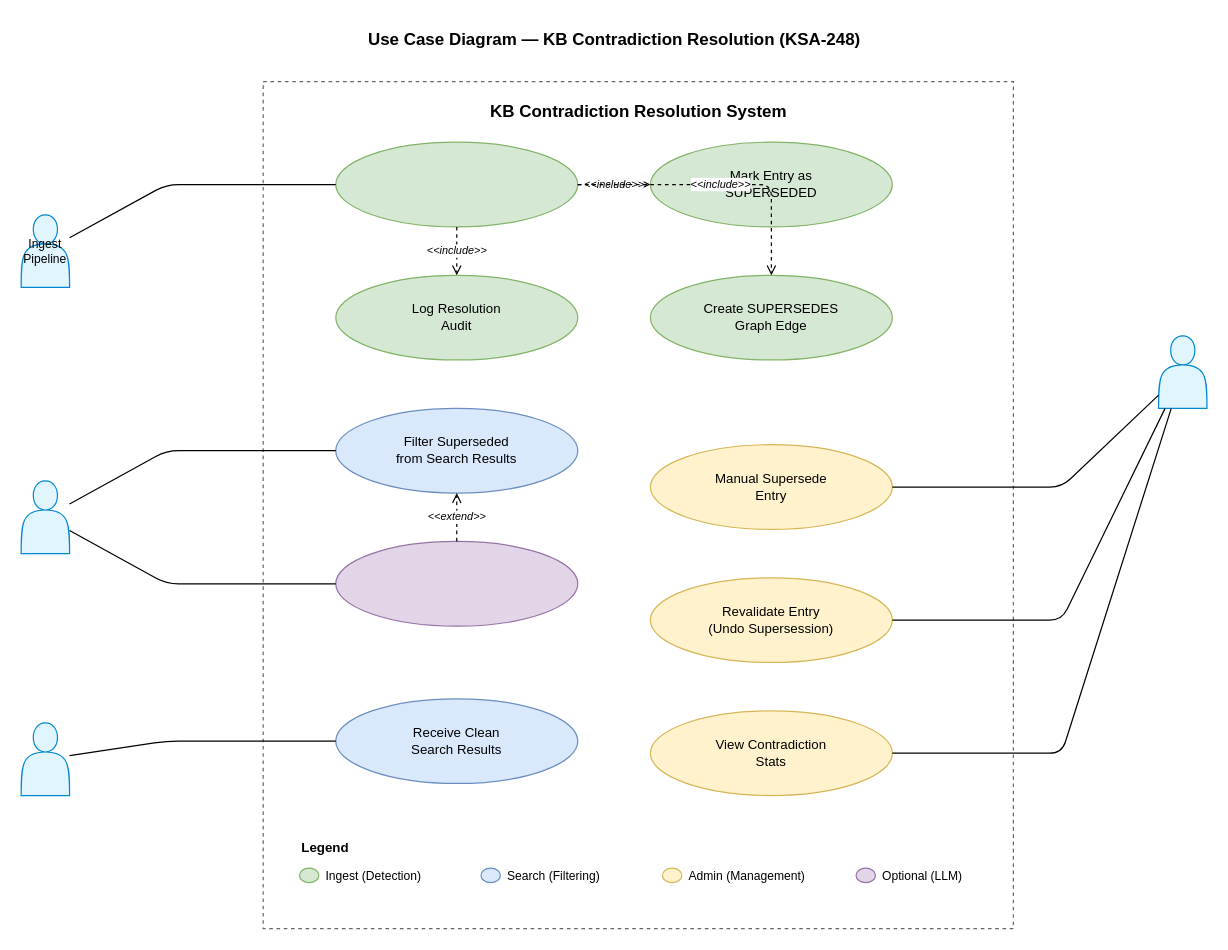
Image size: 1228x950. Some labels were removed from this diagram. Each missing label, with the centre of its shape:
"AI Agent" goes at point (45, 759).
"Detect Contradiction on Ingest" goes at point (456, 184).
"Hybrid Search" goes at point (45, 517).
"LLM Consolidation (Optional)" goes at point (456, 583).
"System Admin" goes at point (1182, 371).
